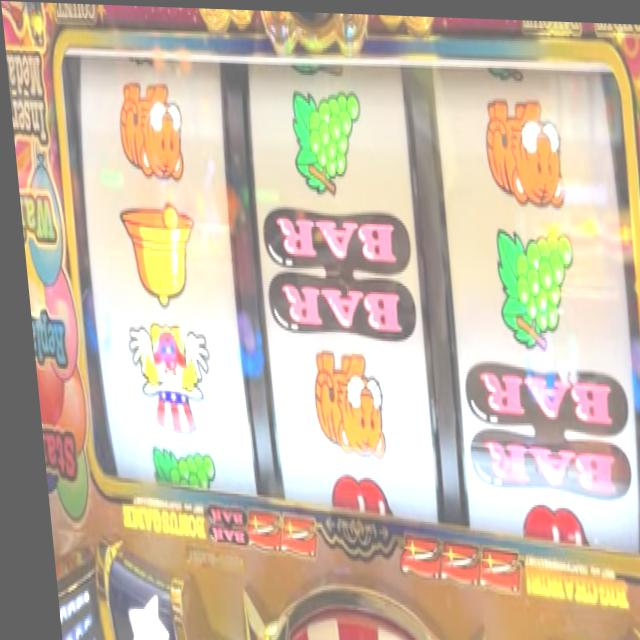bar: (453, 357, 628, 499), (255, 205, 414, 340), (195, 508, 235, 551)
bell: (112, 199, 197, 312)
cherry: (507, 497, 578, 545), (316, 471, 386, 519)
clown: (117, 313, 208, 439)
display: (55, 43, 640, 546)
grape: (486, 217, 578, 349), (284, 79, 365, 195), (138, 445, 207, 492)
tiger: (477, 91, 563, 204), (301, 345, 380, 462), (111, 80, 184, 183)
z: (385, 528, 430, 586), (464, 543, 512, 591), (425, 536, 467, 590), (268, 509, 307, 558), (235, 509, 270, 552)
